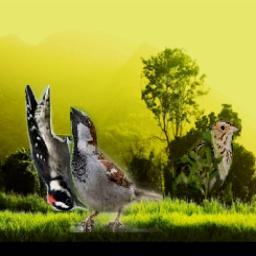Sparrow: (69, 106, 162, 232), (172, 118, 241, 201)
Woodpecker: (24, 86, 88, 212)
